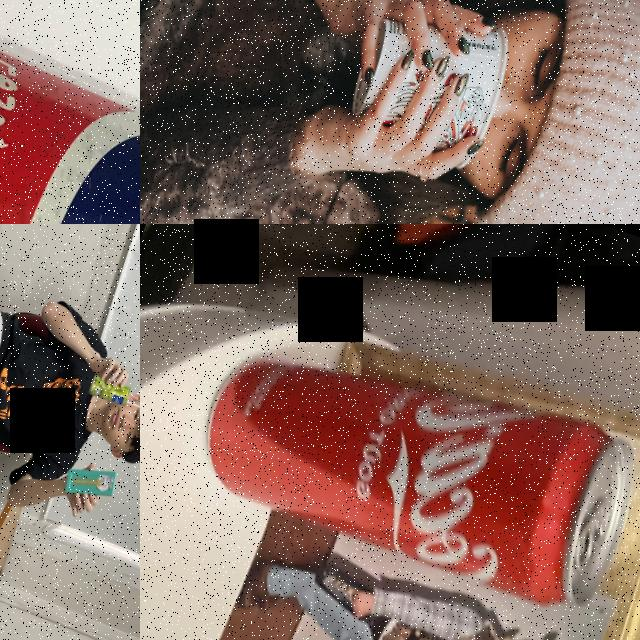can: (177, 296, 640, 621), (0, 5, 140, 224), (85, 373, 131, 407)
cup: (337, 0, 523, 179)
